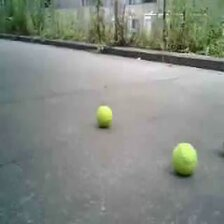tennis: (171, 142, 197, 174), (96, 106, 112, 127)
